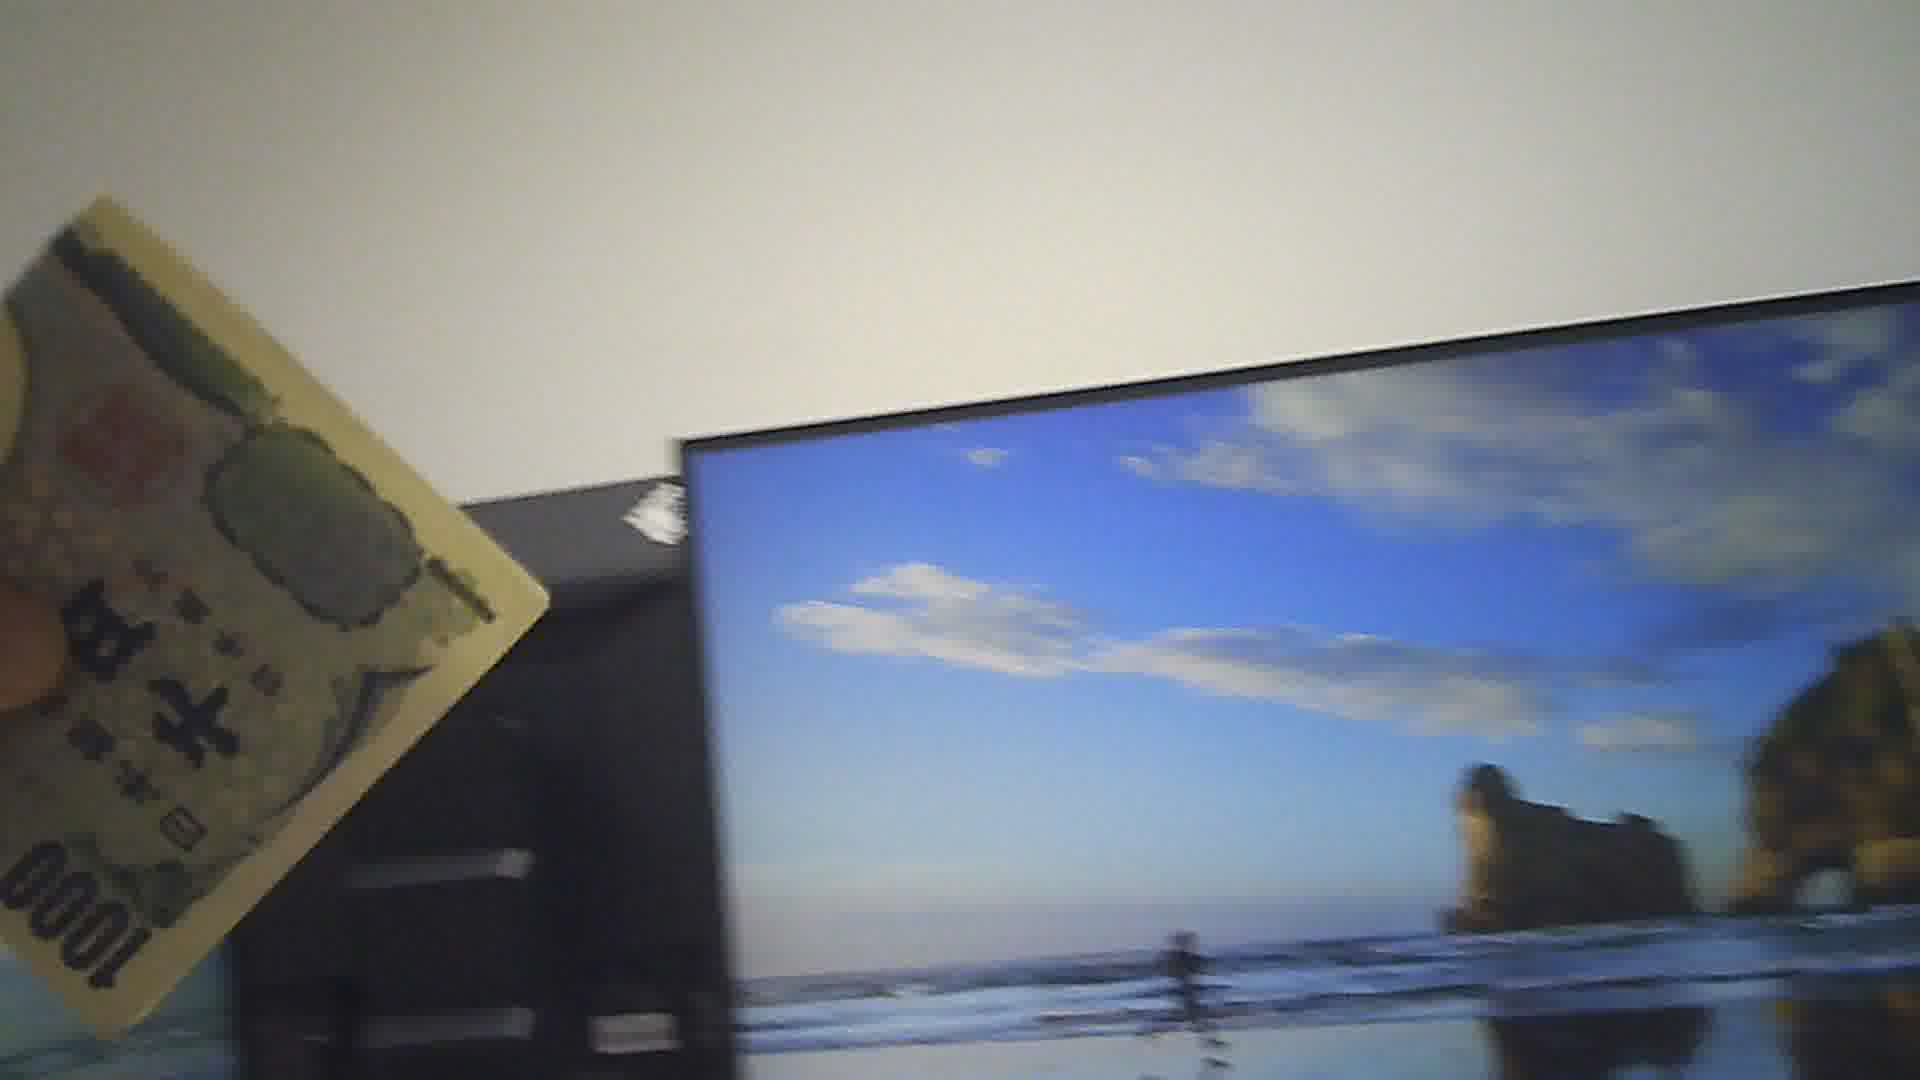1,000 Yen: (1, 189, 558, 1039)
